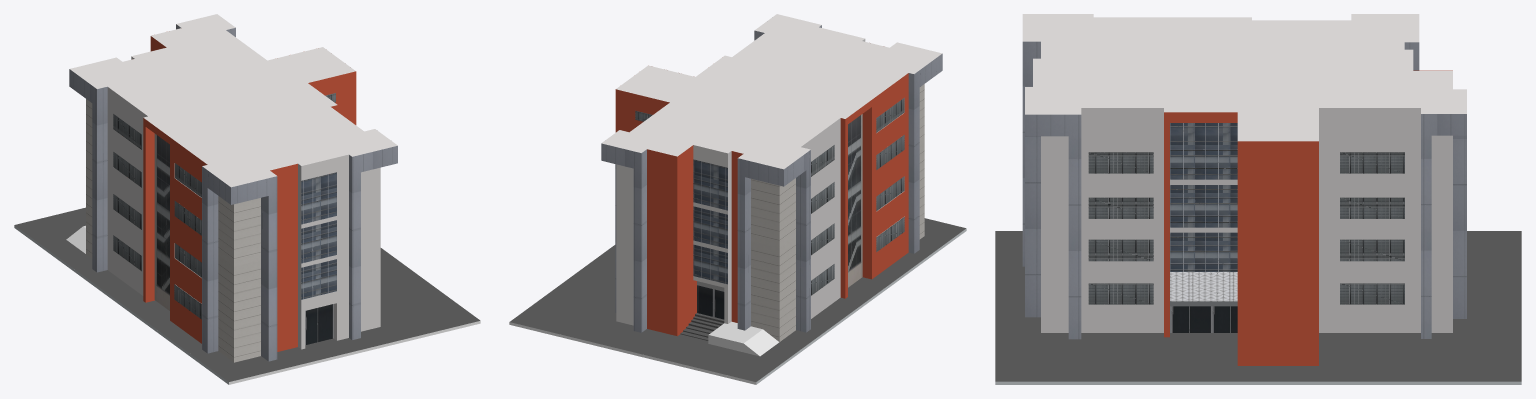
File: fie-ciencias-basicas_1781101605594.glb
The picture shows the model from 3 angles, left to right: view 1: azimuth 30°, elevation 25°; view 2: azimuth 150°, elevation 25°; view 3: azimuth 270°, elevation 25°; orthographic projection. The views are drawn at different scales.
Visible parts, largest first — view 1: Geom3D.003, Geom3D.010, Geom3D.002, Geom3D.004, Geom3D.005, Geom3D.007, Geom3D.006, esca, Geom3D.009, Geom3D.008, Geom3D, Geom3D.001; view 2: Geom3D.003, Geom3D.004, Geom3D.002, Geom3D.010, Geom3D.005, Geom3D.007, Geom3D.006, esca, Geom3D.009, Geom3D, Geom3D.008, Geom3D.001; view 3: Geom3D.003, Geom3D.002, Geom3D.004, Geom3D.010, Geom3D.006, Geom3D.007, Geom3D.001, Geom3D.012, Geom3D.008.
Part boxes in pixels (box(x1,y1,x2,y2)): Geom3D.003: box(70, 14, 397, 349); Geom3D.010: box(69, 24, 397, 361); Geom3D.002: box(14, 207, 480, 381); Geom3D.004: box(143, 36, 356, 351); Geom3D.005: box(86, 99, 260, 362); Geom3D.007: box(301, 172, 336, 299); Geom3D.006: box(113, 93, 335, 319); esca: box(154, 133, 169, 310); Geom3D.009: box(66, 163, 301, 348); Geom3D.008: box(305, 304, 333, 345); Geom3D: box(229, 321, 480, 384); Geom3D.001: box(14, 225, 228, 384); Geom3D.003: box(601, 14, 942, 325); Geom3D.004: box(615, 73, 908, 336); Geom3D.002: box(510, 218, 965, 381); Geom3D.010: box(601, 25, 942, 332); Geom3D.005: box(751, 84, 924, 341); Geom3D.007: box(693, 159, 727, 284); Geom3D.006: box(635, 98, 904, 295); esca: box(848, 114, 862, 287); Geom3D.009: box(708, 39, 904, 356); Geom3D: box(509, 322, 756, 384); Geom3D.008: box(697, 285, 724, 319); Geom3D.001: box(756, 228, 966, 384); Geom3D.003: box(1022, 14, 1466, 332); Geom3D.002: box(995, 231, 1521, 381); Geom3D.004: box(1164, 70, 1452, 365); Geom3D.010: box(1022, 41, 1466, 339); Geom3D.006: box(1088, 152, 1404, 304); Geom3D.007: box(1170, 123, 1237, 271); Geom3D.001: box(995, 381, 1521, 384); Geom3D.012: box(1170, 272, 1237, 301); Geom3D.008: box(1170, 306, 1237, 332).
Bounding box in the file's own units: 88.36 × 62.43 × 130.
Materials: 13 (7 with a texture image).
